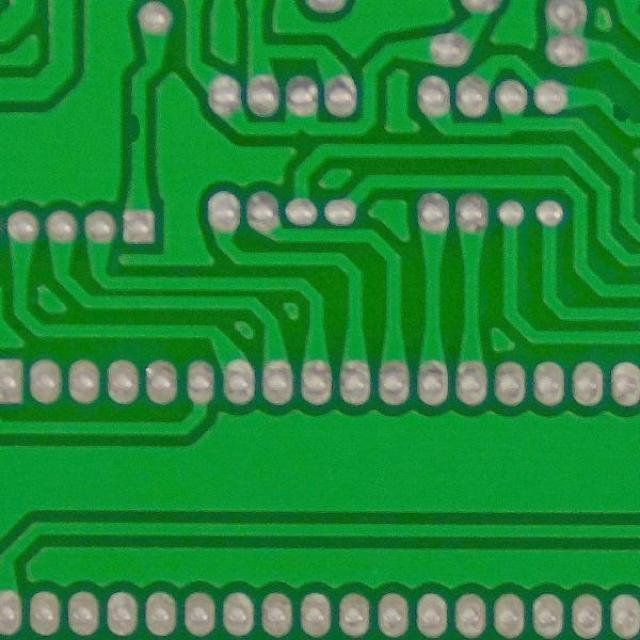MouseBite: (124, 104, 150, 150), (602, 97, 636, 129)
